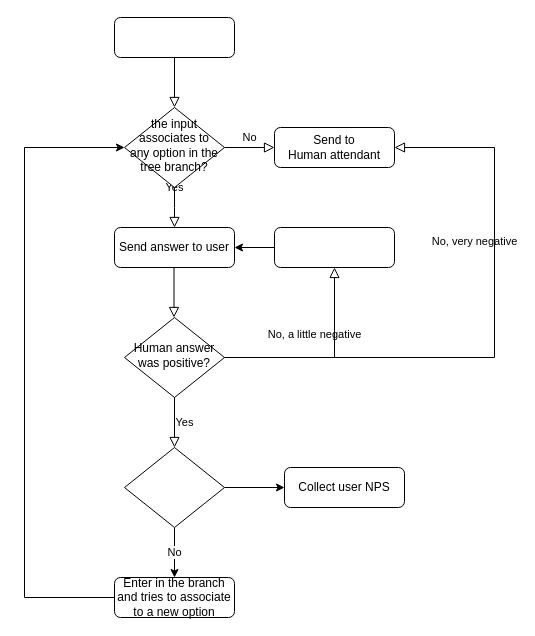
Image size: 535x636. Some labels were removed from this diagram. The centre of each missing label's shape, as x and y in pixels:
Position in the tree is a leaf?: the point at 174,487
tries other option: the point at 334,247
User Input: the point at 174,37
